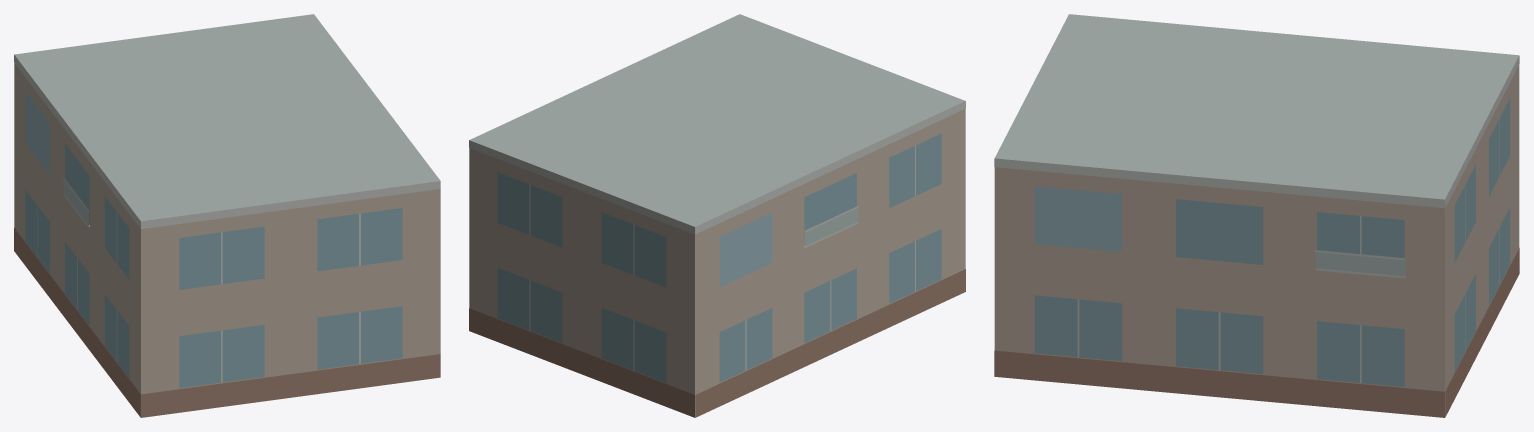
File: survey-upis-32911018.glb
3 views of the same model, side by side, from view 1: azimuth 30°, elevation 25°; view 2: azimuth 150°, elevation 25°; view 3: azimuth 270°, elevation 25° (orthographic). The views are drawn at different scales.
Visible parts, largest first — view 1: survey-upis-32911018.tmp; view 2: survey-upis-32911018.tmp; view 3: survey-upis-32911018.tmp.
Boxes of the visible parts, x1=… form: survey-upis-32911018.tmp: x1=14, y1=14, x2=440, y2=417; survey-upis-32911018.tmp: x1=469, y1=14, x2=965, y2=417; survey-upis-32911018.tmp: x1=994, y1=14, x2=1519, y2=417.
Size of the model in its own units: 11.13 by 6.1 by 13.31.
